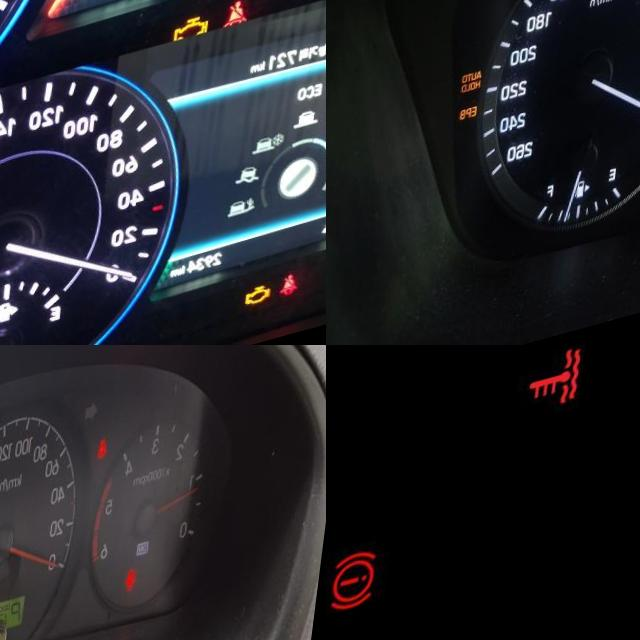Doors: (137, 593, 149, 615)
High Engine Coolant Temperature: (521, 367, 601, 456)
